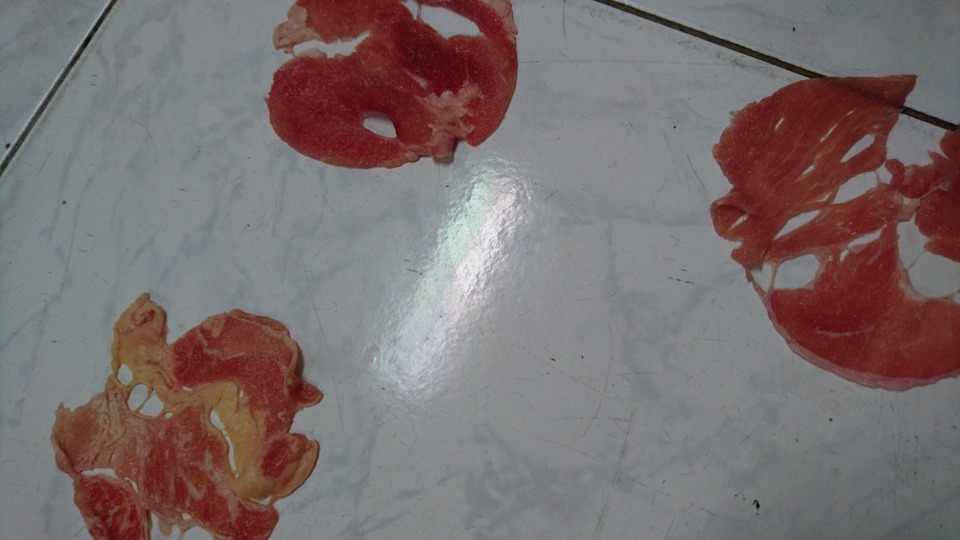restructured meat: (700, 77, 955, 387), (40, 308, 324, 540), (263, 4, 521, 188)
